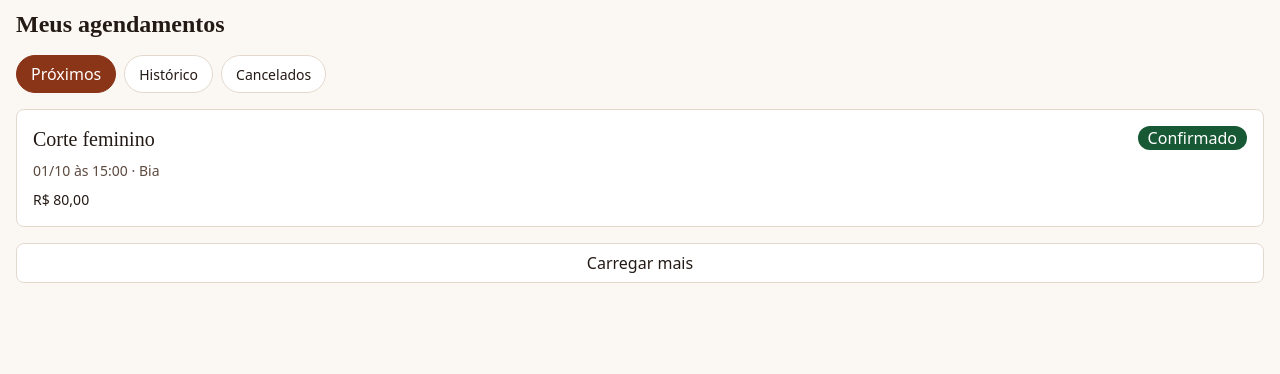
Scenario: AppointmentsList › shows a "Carregar mais" button only when there is a next page, and loads it on click
The width and height of the screenshot is (1280, 374).
Expected: the heading "Corte feminino" is shown, [33,126,155,152]
Step 1. Click the button "Carregar mais" → (640, 263), box [16,243,1264,283]
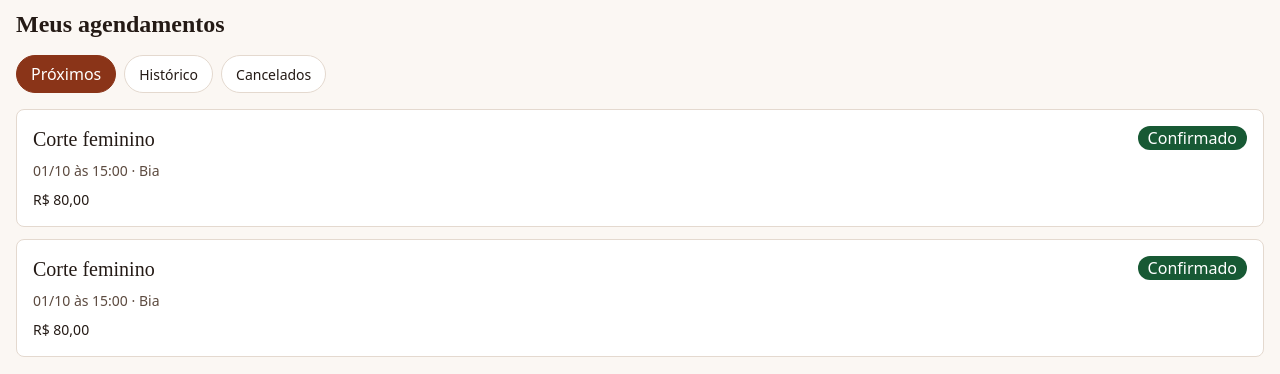
Now the number of headings "Corte feminino" is 2, box [33,126,155,152]; [33,256,155,282]
Now the button "Carregar mais" is gone
